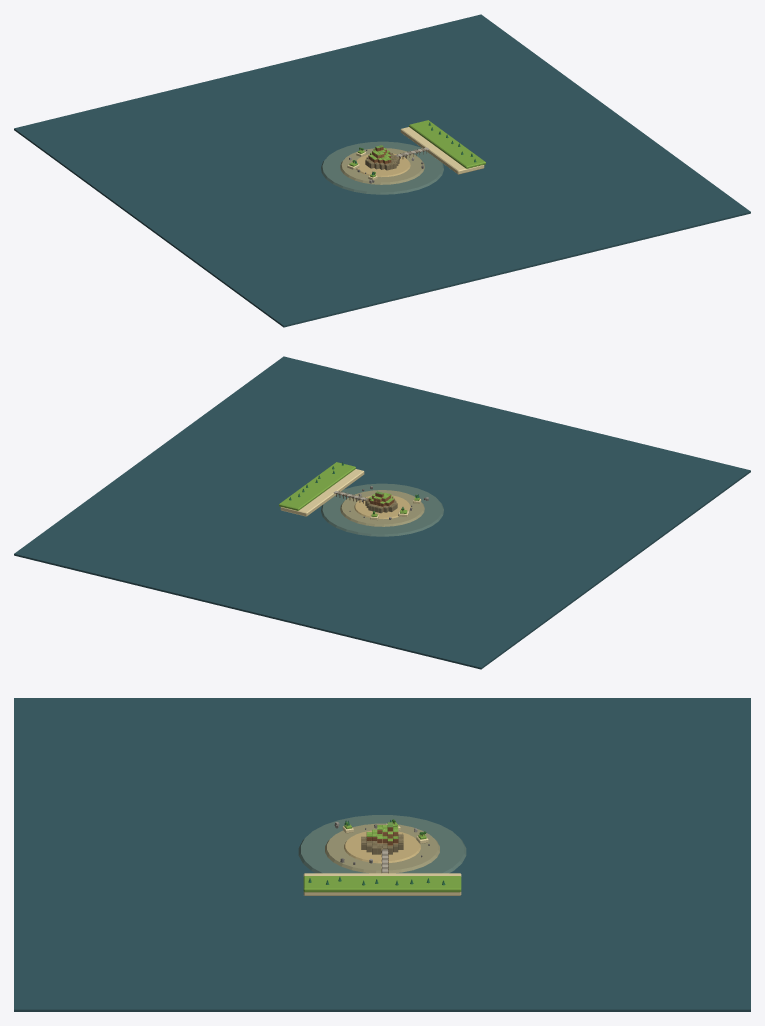
The model's file is island-saltmarsh.glb.
3 views of the same model, one above another, from view 1: azimuth 30°, elevation 25°; view 2: azimuth 150°, elevation 25°; view 3: azimuth 270°, elevation 25° (orthographic). The views are drawn at different scales.
Visible parts, largest first — view 1: Saltmarsh; view 2: Saltmarsh; view 3: Saltmarsh.
Boxes of the visible parts, x1,y1,x2,y2 form: Saltmarsh: (14,14,750,327); Saltmarsh: (14,356,750,669); Saltmarsh: (14,698,750,1011).
Size of the model in its own units: 140 by 6.76 by 140.
